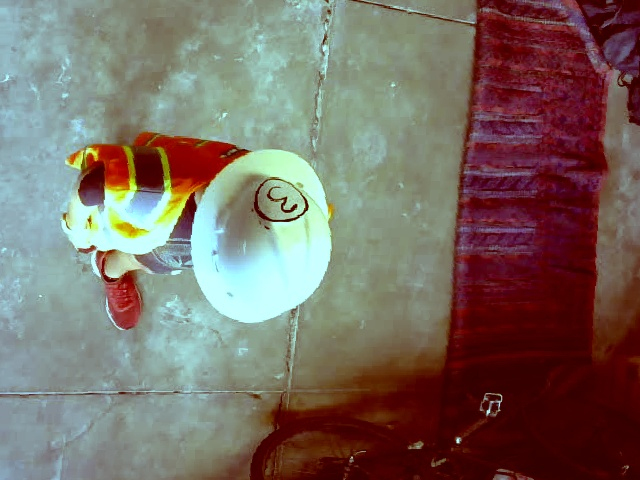three: (250, 177, 310, 221)
